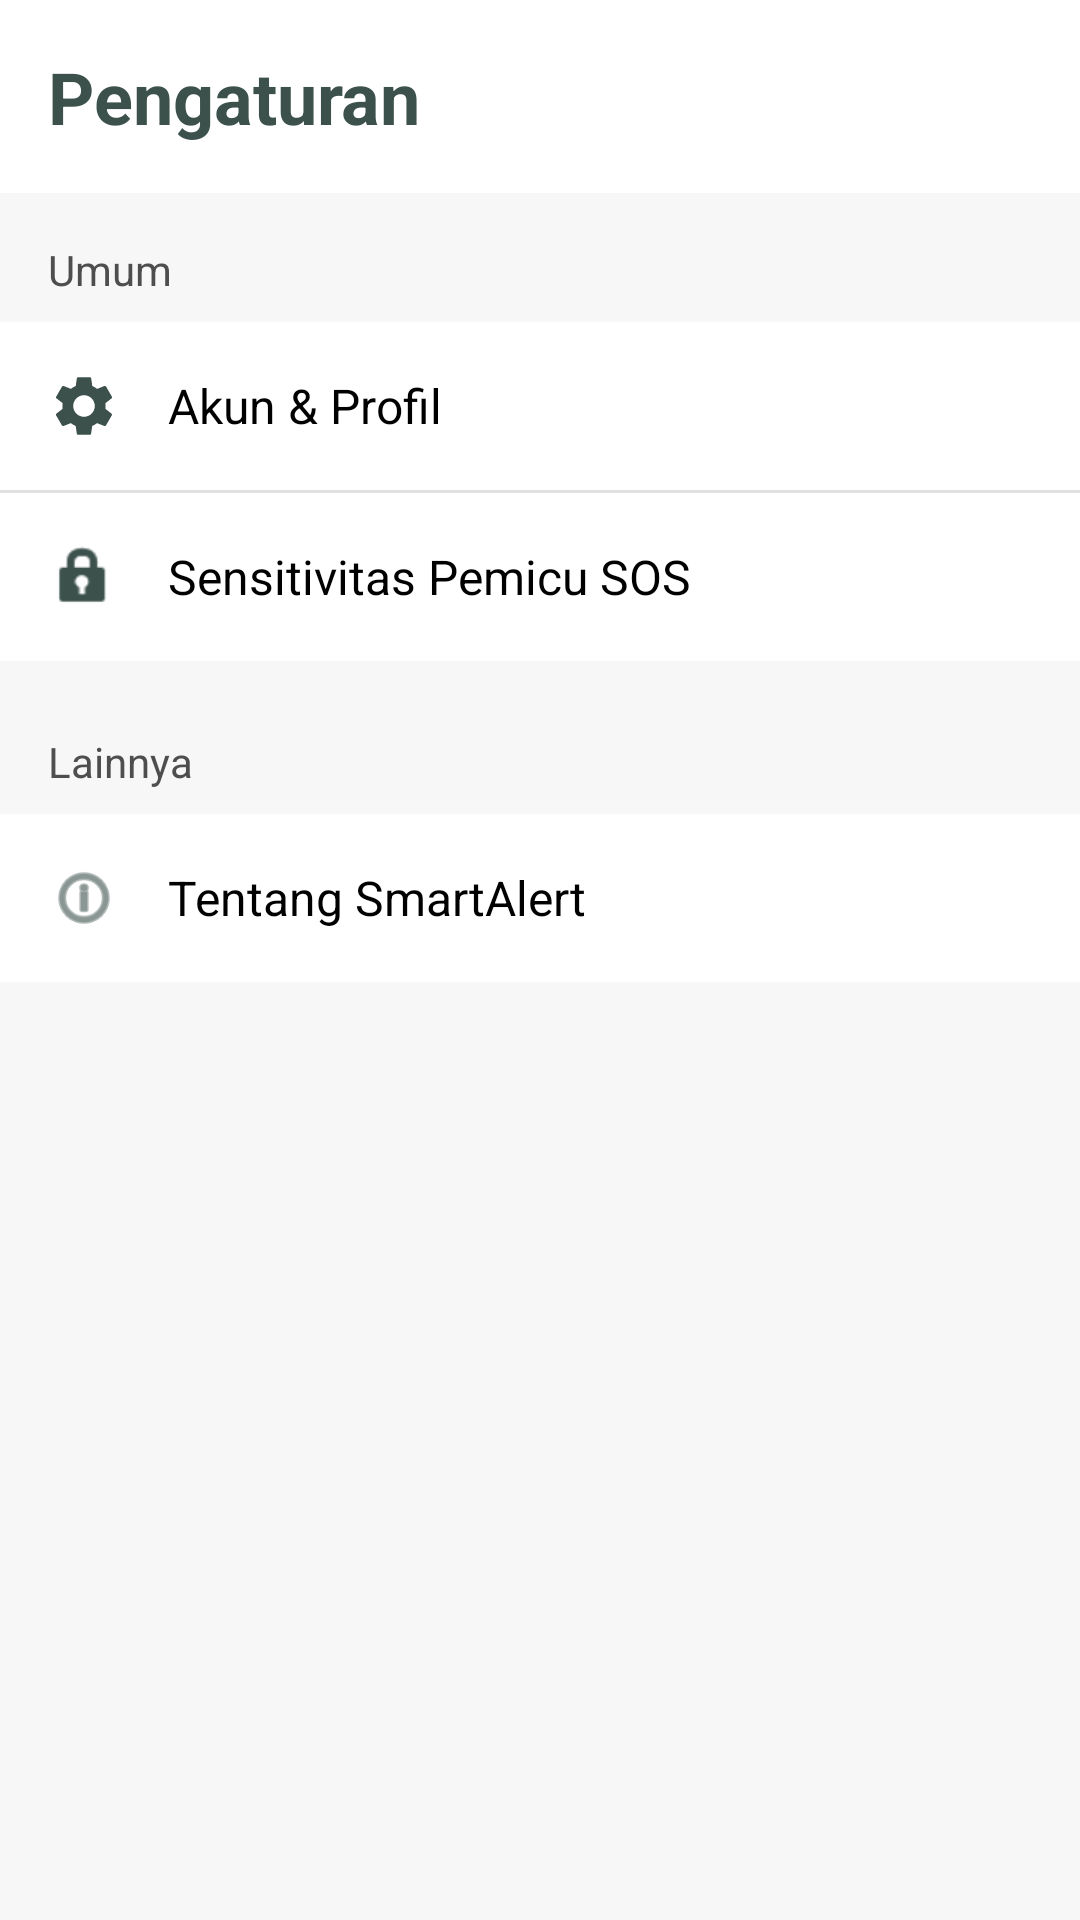

Locate icon controls on the screen. Image size 1080w x 1920h, boxes as [x1,y1,x2,y2].
info details: [58,872,110,924]
lock idle: [59,547,106,602]
settings: [56,377,112,435]
